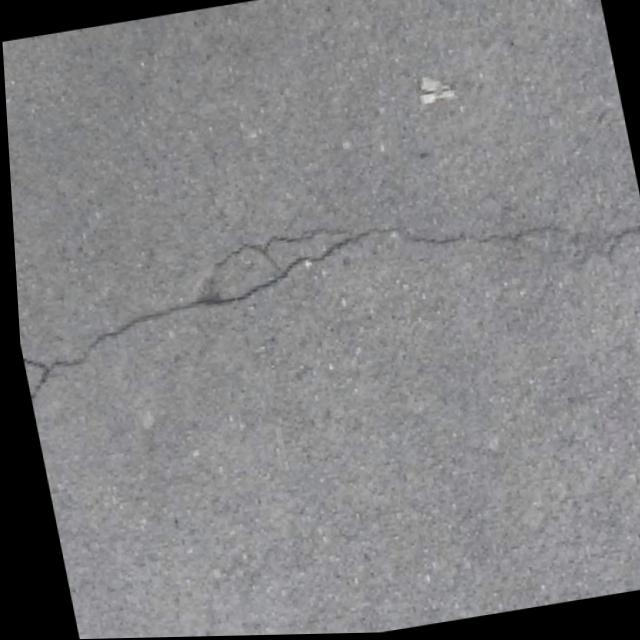Crack: (8, 165, 640, 422)
